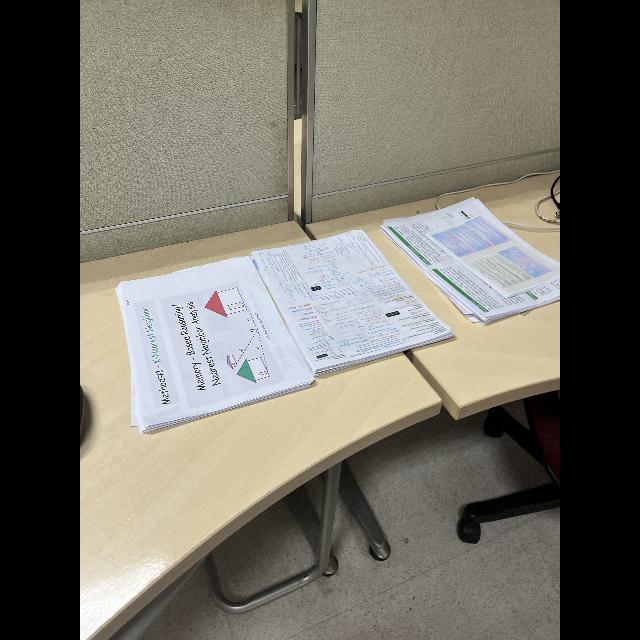reuseable_paper: (117, 218, 451, 444), (382, 192, 560, 322)
